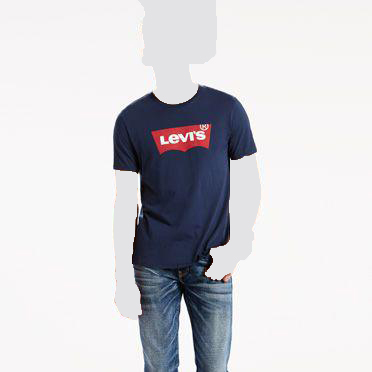teeshirt: (110, 82, 256, 271)
